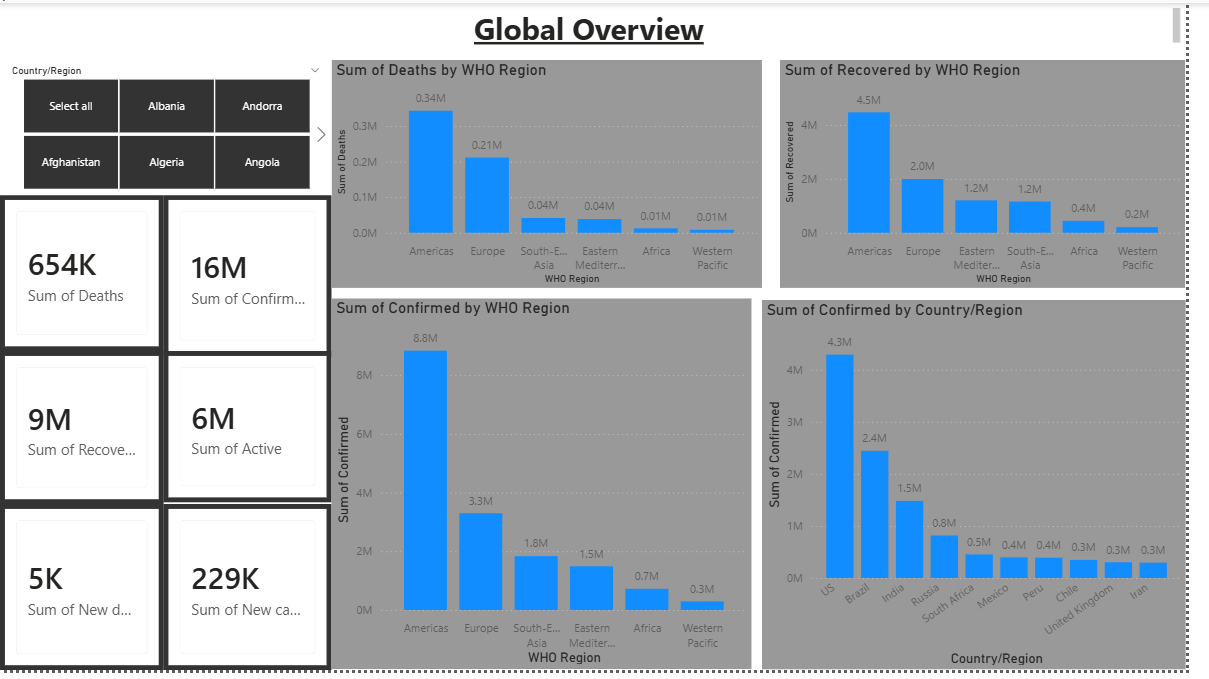

What the dashboard file says about the page in this screenshot:
{"tool":"powerbi","page":{"name":"Global Overview","canvas":[1280,720],"ordinal":0},"visuals":[{"type":"cardVisual","fields":{"Data":["Sum(covid19.Deaths)"]},"box":[0,207.3,176.5,168.4],"z":1000},{"type":"cardVisual","fields":{"Data":["Sum(covid19.Recovered)"]},"box":[0,375.7,176.5,165.2],"z":2000},{"type":"cardVisual","fields":{"Data":["Sum(covid19.Confirmed)"]},"box":[176.5,207.3,181.4,174.9],"z":3000},{"type":"cardVisual","fields":{"Data":["Sum(covid19.Active)"]},"box":[176.5,375.7,181.4,163.5],"z":4000},{"type":"cardVisual","fields":{"Data":["Sum(covid19.New cases)"]},"box":[176.5,540.8,181.4,179.7],"z":5000},{"type":"cardVisual","fields":{"Data":["Sum(covid19.New deaths)"]},"box":[0,540.8,176.5,179.7],"z":6000},{"type":"columnChart","fields":{"Category":["covid19.WHO Region"],"Y":["Sum(covid19.Confirmed)"]},"box":[357.8,319,453.4,399.9],"z":7000},{"type":"columnChart","fields":{"Y":["Sum(covid19.Deaths)"],"Category":["covid19.WHO Region"]},"box":[357.8,61.5,464.7,246.1],"z":8000},{"type":"columnChart","fields":{"Y":["Sum(covid19.Recovered)"],"Category":["covid19.WHO Region"]},"box":[842,61.5,437.2,246.1],"z":9000},{"type":"clusteredColumnChart","fields":{"Category":["covid19.Country/Region"],"Y":["Sum(covid19.Confirmed)"]},"box":[822.1,321.3,457.3,398.7],"z":10000},{"type":"slicer","fields":{"Values":["covid19.Country/Region"]},"box":[0,61.5,357.8,145.7],"z":10001},{"type":"textbox","box":[0,0,1279.2,50.2],"z":10002}]}

Visuals, with their boxes in screenshot pixels (x1, y1, x2, y2), scaled from the page's 1280x720 canvas onto the 1209x679 screenshot:
cardVisual - Sum(covid19.Deaths): 0:195:167:354
cardVisual - Sum(covid19.Recovered): 0:354:167:510
cardVisual - Sum(covid19.Confirmed): 167:195:338:360
cardVisual - Sum(covid19.Active): 167:354:338:508
cardVisual - Sum(covid19.New cases): 167:510:338:678
cardVisual - Sum(covid19.New deaths): 0:510:167:678
columnChart - covid19.WHO Region x Sum(covid19.Confirmed): 338:301:766:678
columnChart - Sum(covid19.Deaths) x covid19.WHO Region: 338:58:777:290
columnChart - Sum(covid19.Recovered) x covid19.WHO Region: 795:58:1208:290
clusteredColumnChart - covid19.Country/Region x Sum(covid19.Confirmed): 776:303:1208:678
slicer - covid19.Country/Region: 0:58:338:195
textbox: 0:0:1208:47
